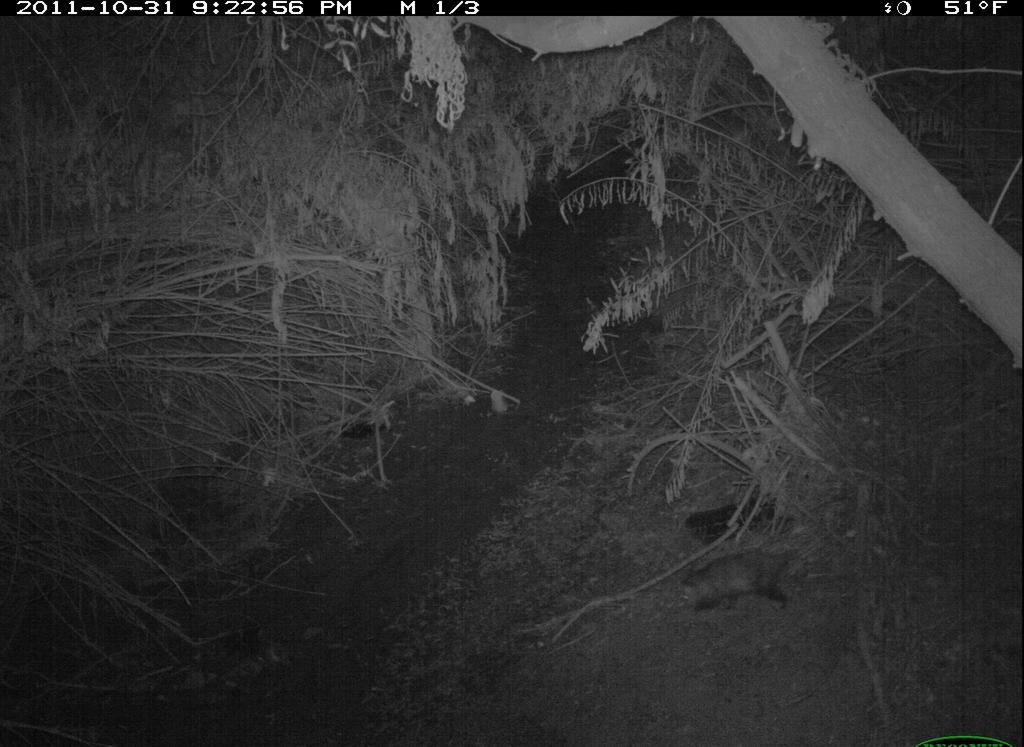opossum: (666, 523, 833, 632)
